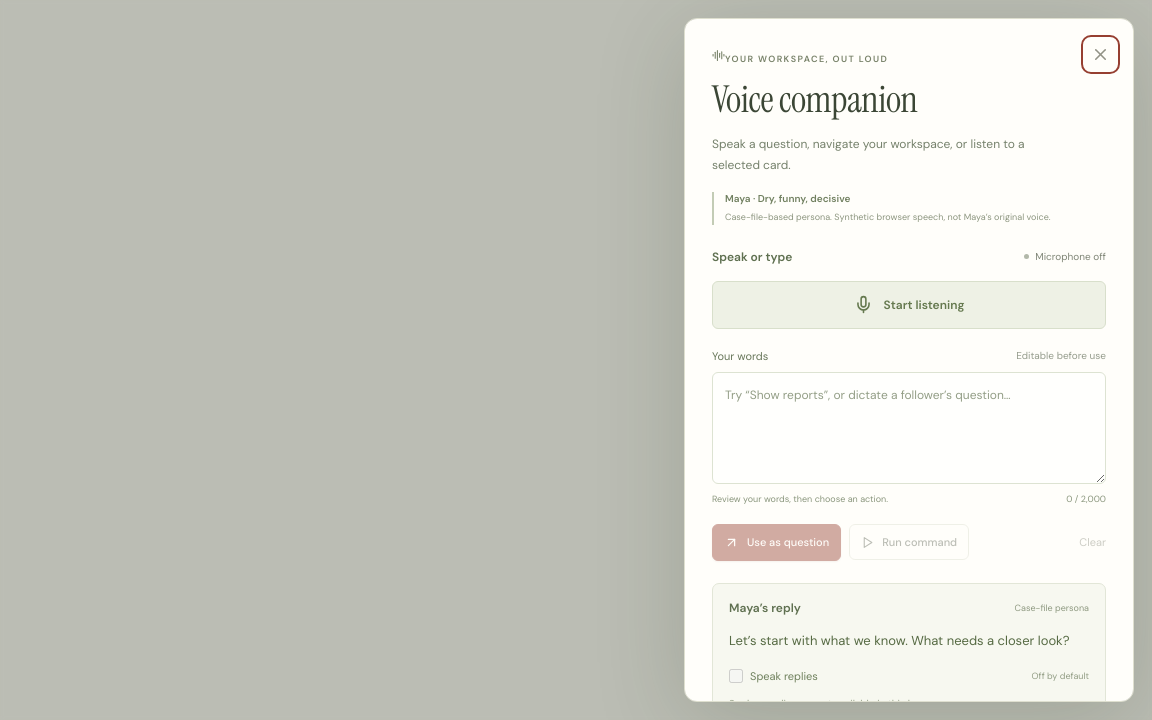
it: voice input lifecycle with simulated browser events › retains current partial words on network error
Click the button "Start listening".
click(909, 305)  # box [712, 281, 1106, 329]
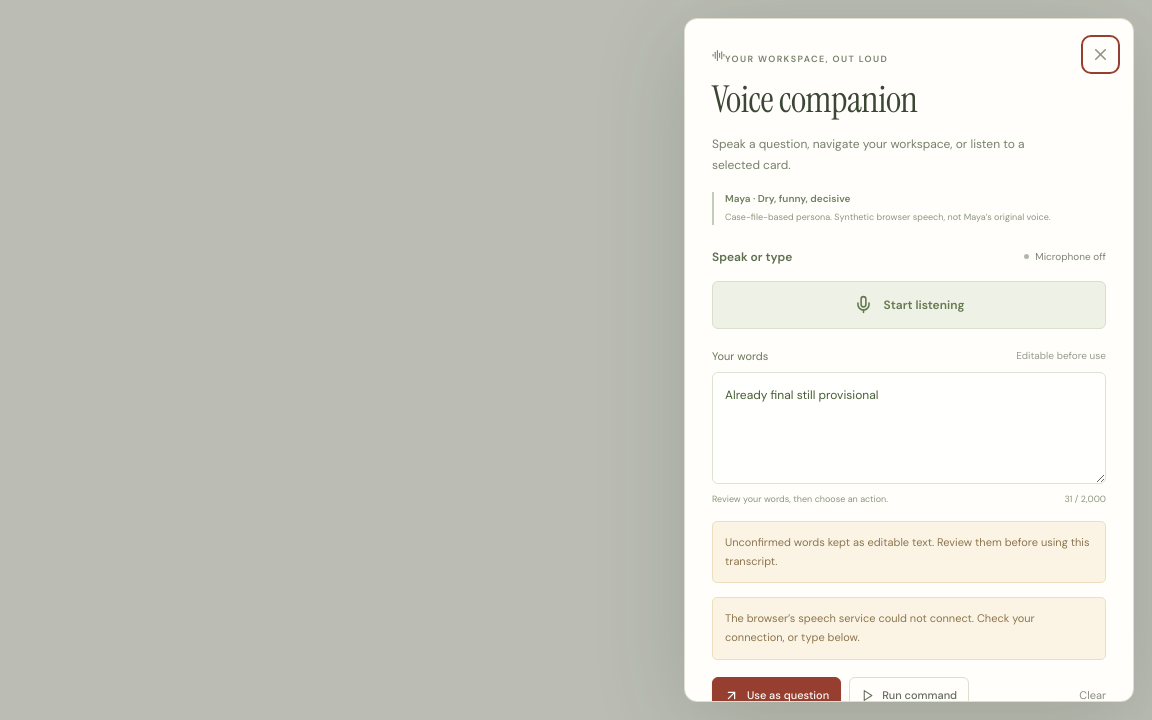
Expected: the text box holds "Already final still provisional", [712, 372, 1106, 484]
Expected: the text "Unconfirmed words kept as editable text. Review them before using this transcript." is shown, [725, 535, 1090, 568]
